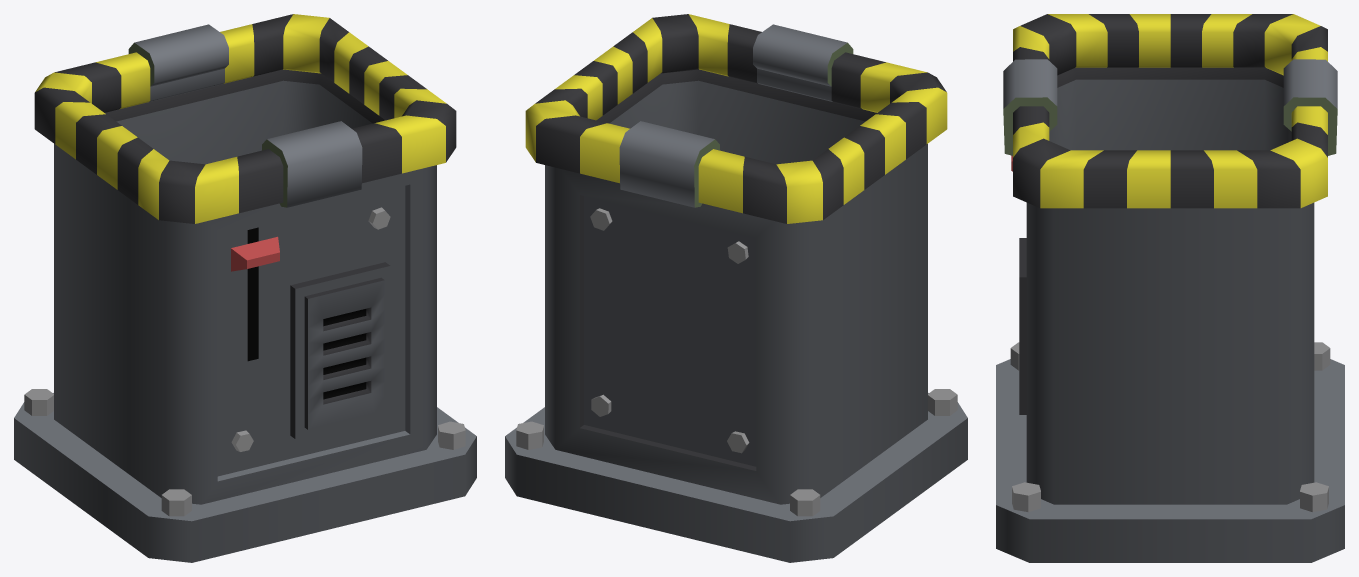
File: disposals.fbx
3 renders of one model, left to right at view 1: azimuth 30°, elevation 25°; view 2: azimuth 150°, elevation 25°; view 3: azimuth 270°, elevation 25°, orthographic. The views are drawn at different scales.
Parts seen in each view (by area): view 1: DisposalsBin; view 2: DisposalsBin; view 3: DisposalsBin.
Part boxes in pixels (<box>): DisposalsBin: <box>14,14,476,562</box>; DisposalsBin: <box>505,14,967,562</box>; DisposalsBin: <box>996,14,1344,562</box>.
Size of the model in its own units: 71.44 by 79.28 by 62.6.
